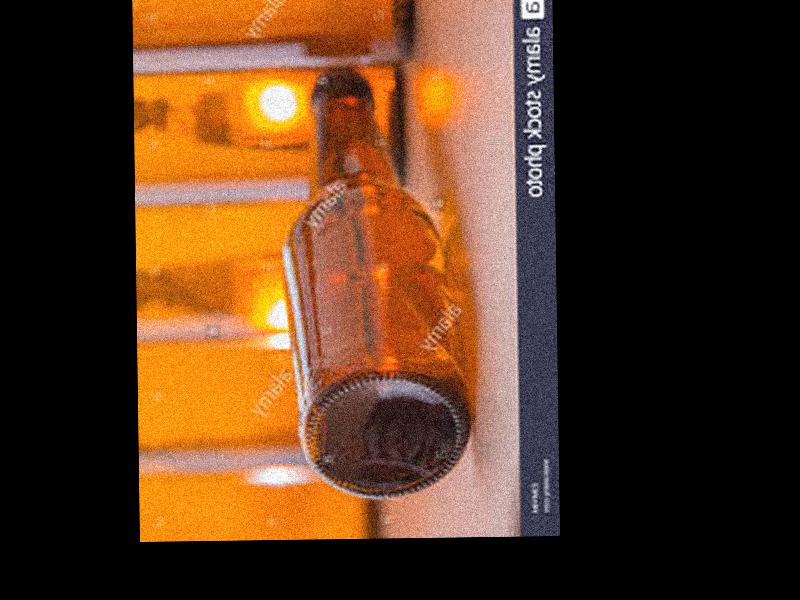Beer: (278, 73, 480, 501)
